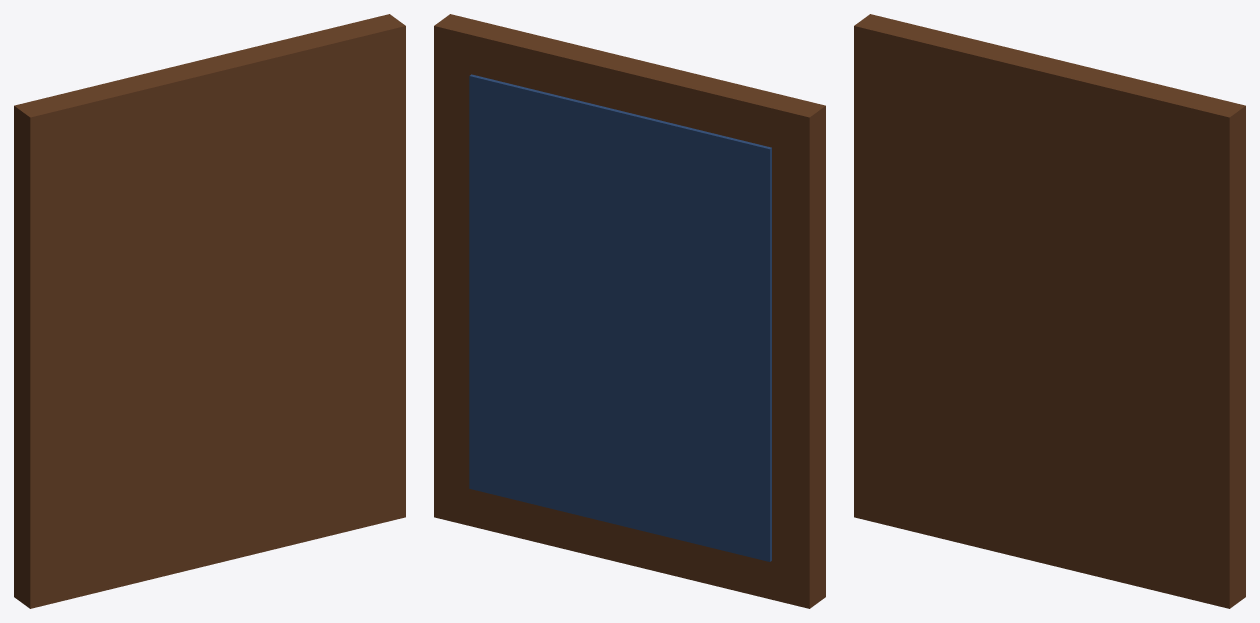
Rendered from home.art.picture_small.glb.
3 views of the same model, side by side, from view 1: azimuth 30°, elevation 25°; view 2: azimuth 150°, elevation 25°; view 3: azimuth 330°, elevation 25° (orthographic).
Visible parts, largest first — view 1: main__hardwood; view 2: main__fabric_blue, main__hardwood; view 3: main__hardwood.
Boxes of the visible parts, <box> form: main__hardwood: <box>14,14,405,608</box>; main__fabric_blue: <box>469,74,771,561</box>; main__hardwood: <box>434,14,825,608</box>; main__hardwood: <box>854,14,1245,608</box>.
Size of the model in its own units: 0.4 by 0.5 by 0.034.
